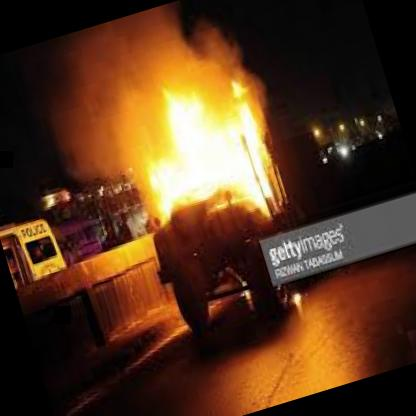fire: (102, 42, 318, 346)
